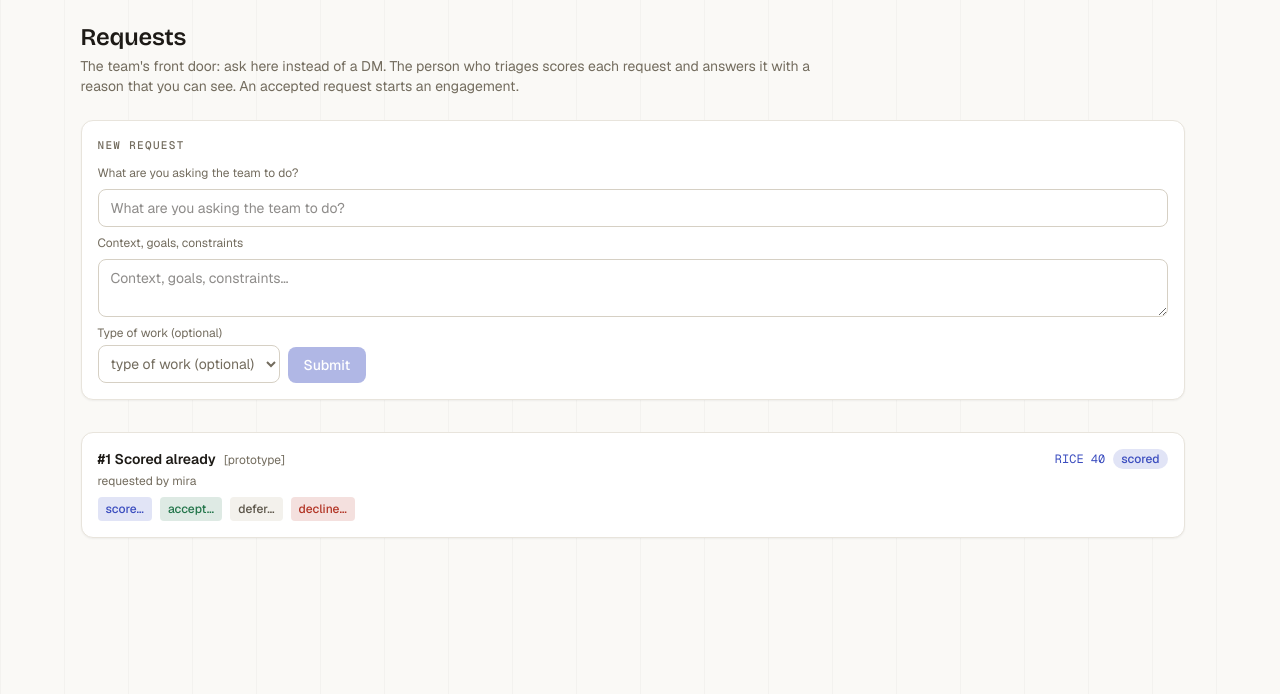
Test: a projection stops being an answer when its inputs change › clears the projection when the assumed percent changes
The image size is (1280, 694).
Click the button "accept…" at (191, 509), box [160,497,222,521]
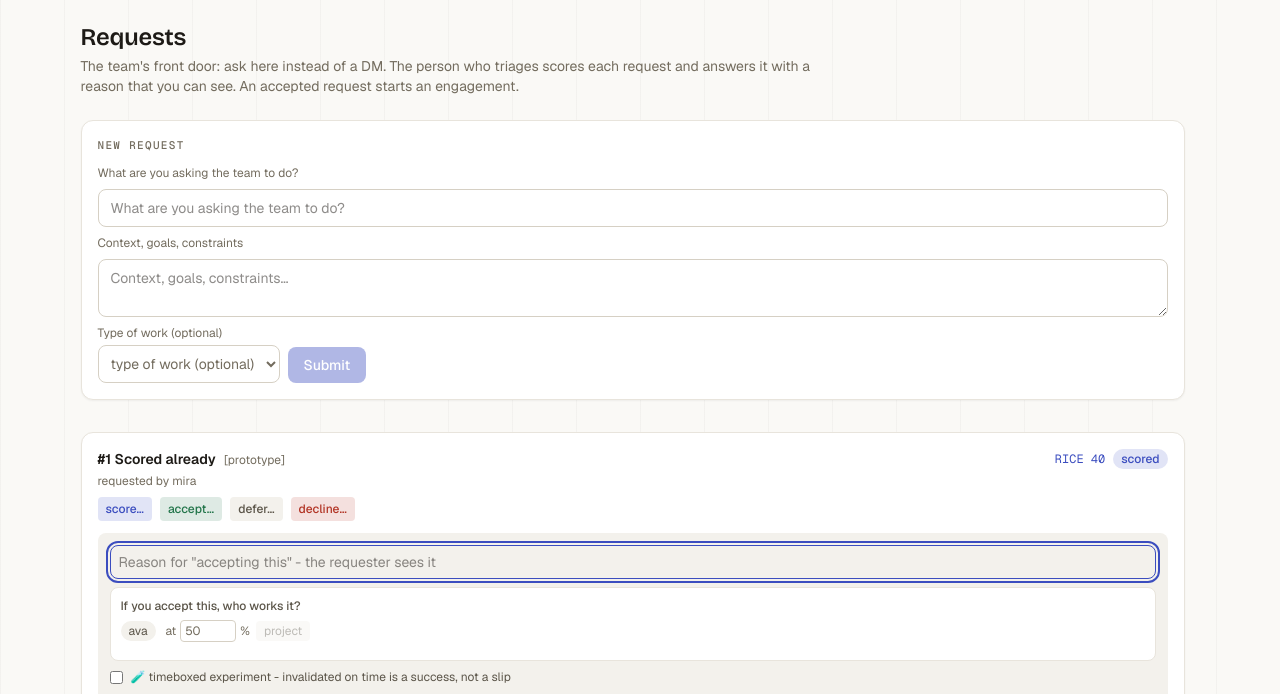
Click the button "ava" at (138, 631), box [120,621,156,641]
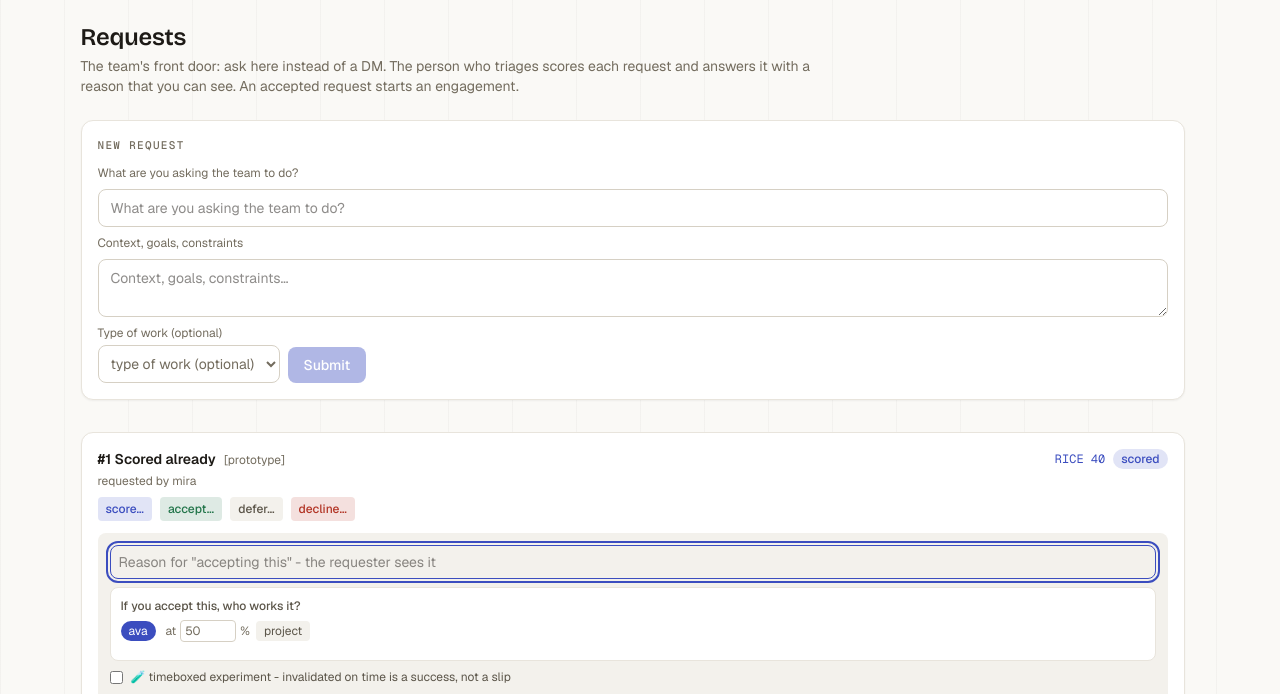
Click the button "project" at (283, 631), box [256,621,310,641]
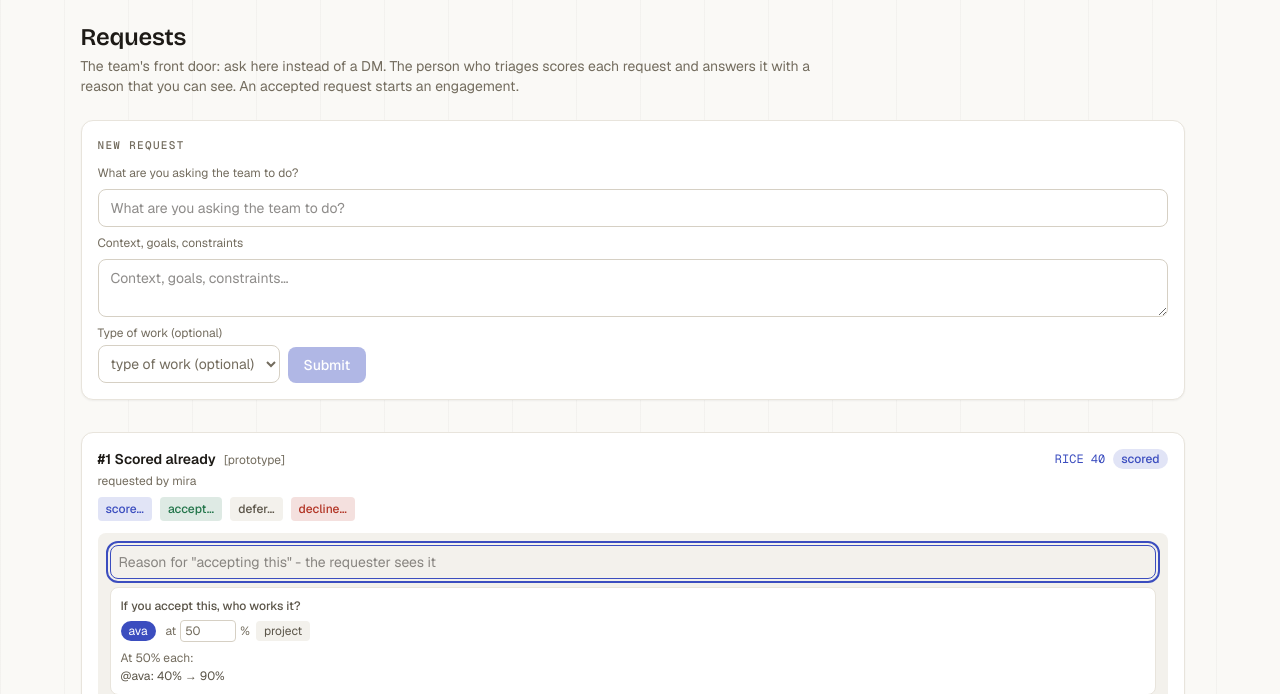
Replace the text in the number field named "Percent of each person" with "80" at (208, 631), box [180,620,236,642]
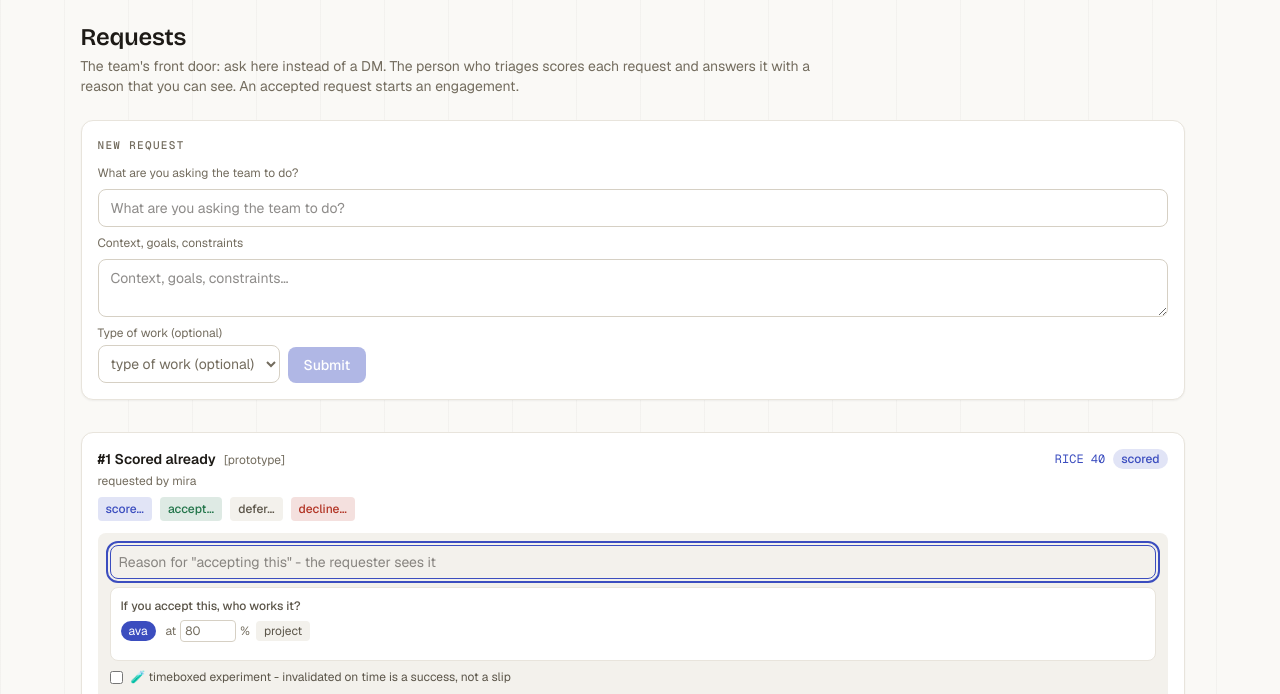
expect the list item "90" is gone: met
